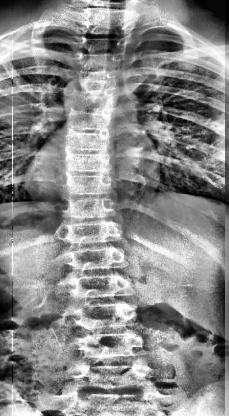Vertebrae: (70, 357, 152, 391), (65, 388, 156, 416), (75, 330, 147, 362), (71, 301, 141, 333), (54, 218, 126, 249), (62, 244, 128, 274), (56, 194, 119, 222), (69, 275, 132, 301), (61, 170, 115, 198), (72, 34, 134, 58), (61, 127, 115, 154), (68, 49, 128, 73), (69, 68, 122, 94), (62, 148, 114, 174), (66, 88, 120, 112), (62, 108, 114, 132), (78, 18, 134, 40)
